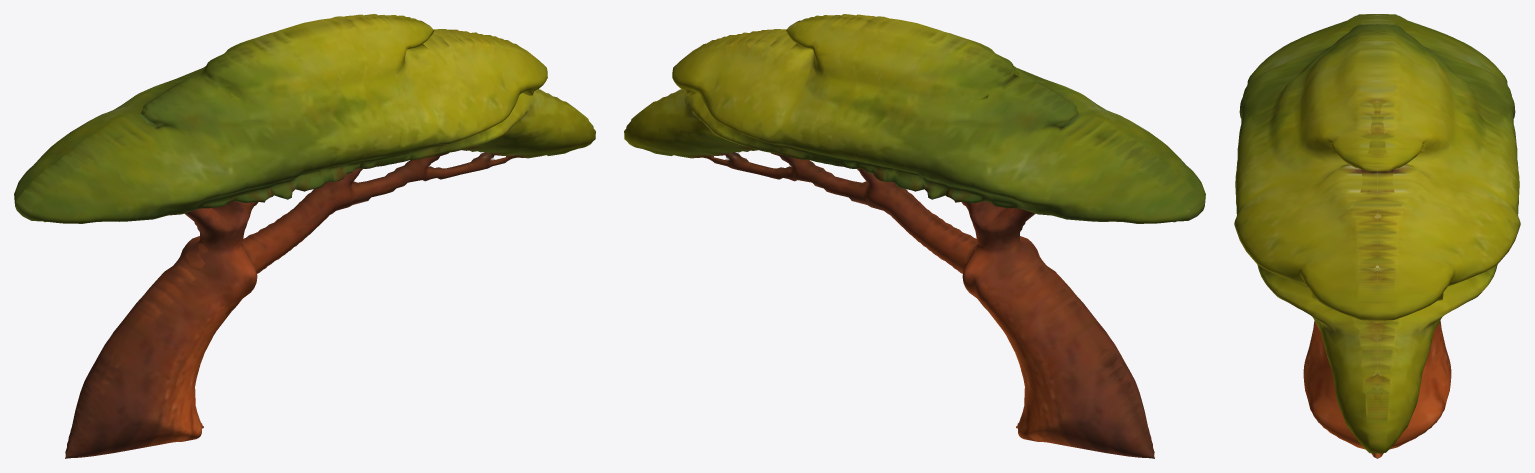
Rendered from 02_acacia_trees_r01_c01.glb.
3 views of the same model, side by side, from view 1: azimuth 30°, elevation 25°; view 2: azimuth 150°, elevation 25°; view 3: azimuth 270°, elevation 25° (orthographic). The views are drawn at different scales.
Visible parts, largest first — view 1: 02_acacia_trees_r01_c01; view 2: 02_acacia_trees_r01_c01; view 3: 02_acacia_trees_r01_c01.
Part boxes in pixels (<box>): 02_acacia_trees_r01_c01: <box>14,14,595,458</box>; 02_acacia_trees_r01_c01: <box>624,14,1205,458</box>; 02_acacia_trees_r01_c01: <box>1234,14,1520,458</box>.
Size of the model in its own units: 4.07 by 2.54 by 1.44.
1 material, 1 textured.
